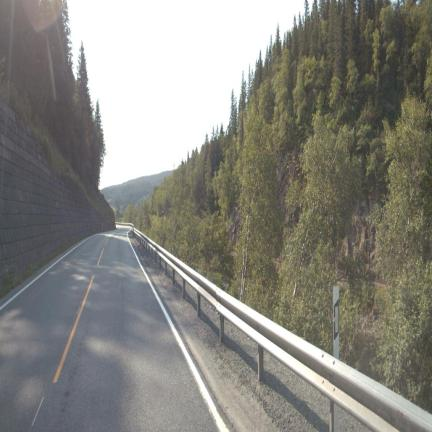Road: (0, 229, 217, 431)
